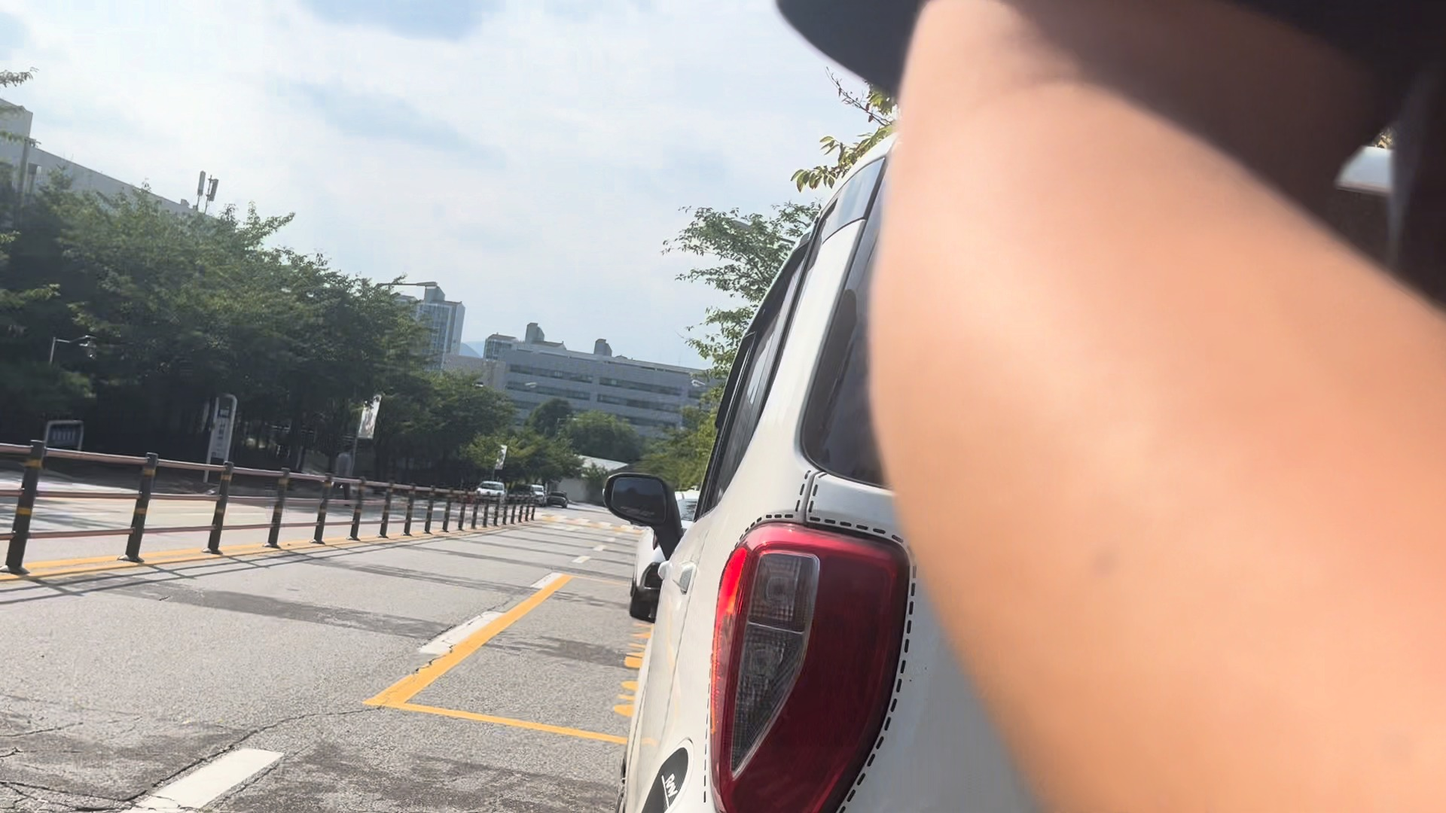side_mirror: (604, 473, 682, 558)
tail_light: (710, 523, 909, 812)
